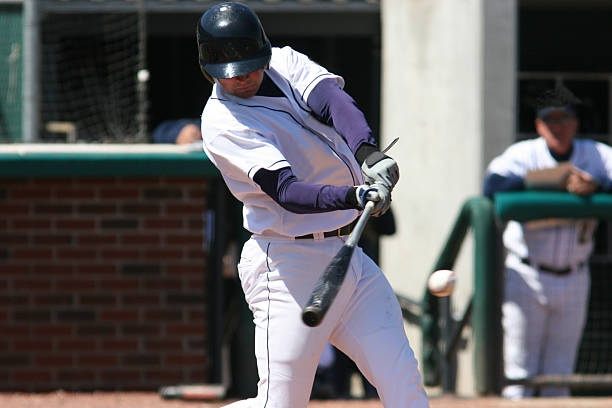bita: (301, 163, 395, 328)
